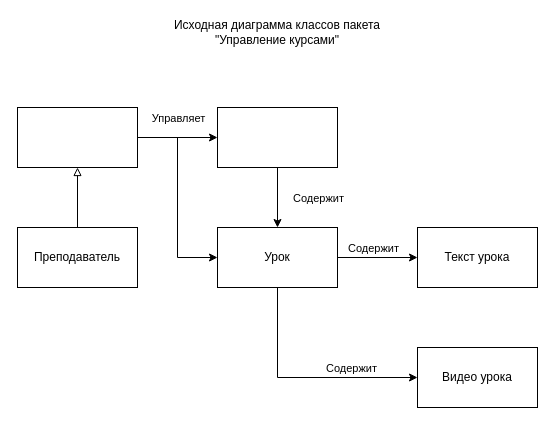
Image size: 555x425. Some labels were removed from this diagram. Each missing label, with the box of its shape:
Курс: (216, 106, 338, 168)
Пользователь: (16, 106, 138, 168)
